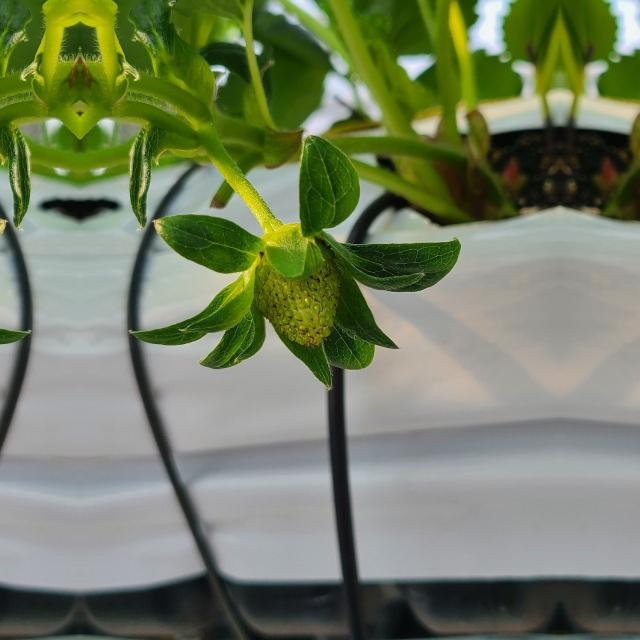Health_25: (255, 227, 341, 345)
